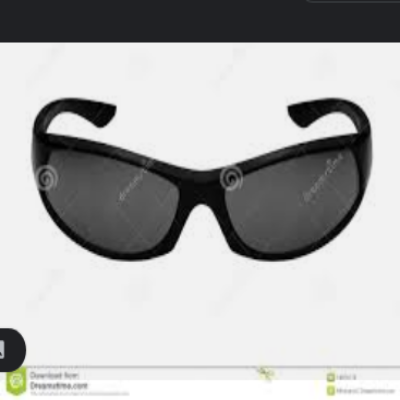glasses: (31, 93, 373, 263)
